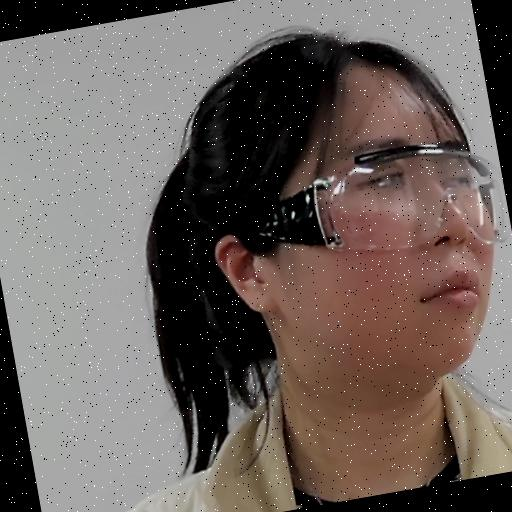glasses: (149, 11, 512, 431)
